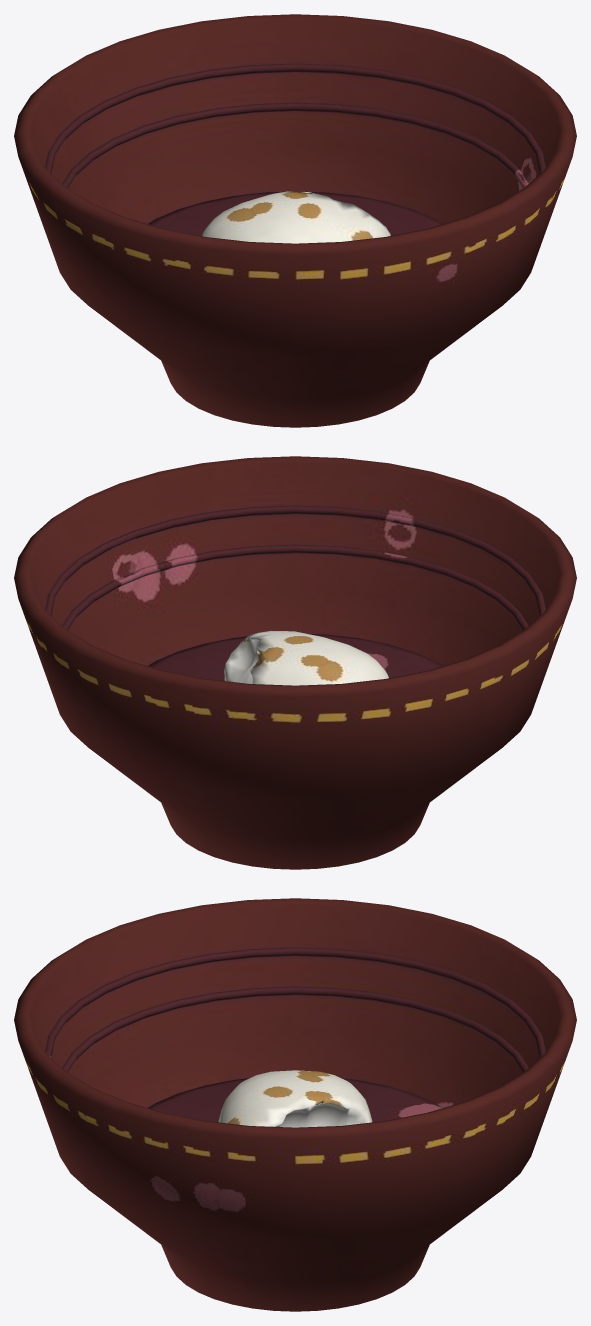
Rendered from oshiruko_b2.glb.
3 renders of one model, top to bottom at view 1: azimuth 30°, elevation 25°; view 2: azimuth 150°, elevation 25°; view 3: azimuth 270°, elevation 25°, orthographic.
Parts seen in each view (by area): view 1: prop_oshiruko_b2_felt; view 2: prop_oshiruko_b2_felt; view 3: prop_oshiruko_b2_felt.
Part boxes in pixels (x1=…): prop_oshiruko_b2_felt: x1=14, y1=14, x2=576, y2=427; prop_oshiruko_b2_felt: x1=14, y1=456, x2=576, y2=869; prop_oshiruko_b2_felt: x1=14, y1=898, x2=576, y2=1311.
Bounding box in the file's own units: 0.18 × 0.0862 × 0.18.
Materials: 1 (1 with a texture image).
